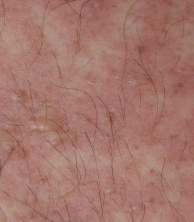SJS-TEN: (0, 18, 189, 222)
